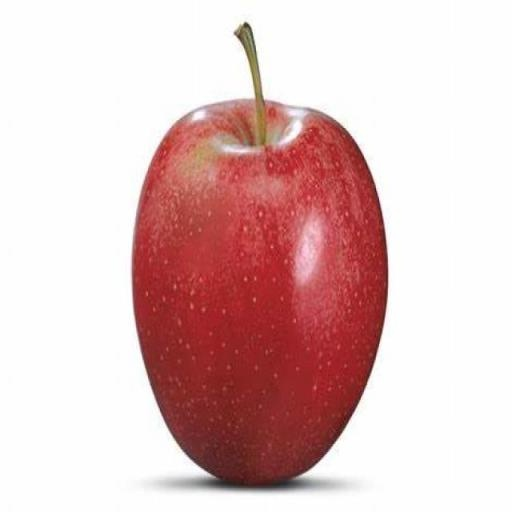fruit: (132, 24, 386, 484)
